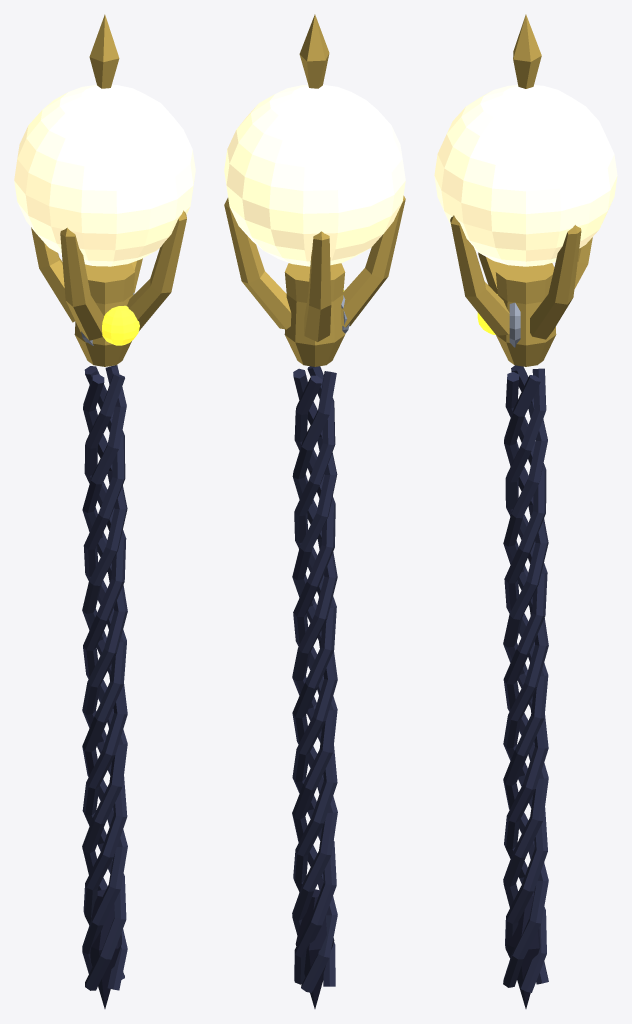
Rendered from staff_amberpearl.glb.
3 renders of one model, left to right at view 1: azimuth 30°, elevation 25°; view 2: azimuth 150°, elevation 25°; view 3: azimuth 270°, elevation 25°, orthographic.
Parts seen in each view (by area): view 1: Ap_Pearl, Ap_Strand2, Ap_Strand3, Ap_Strand1, Ap_Strand0, Ap_Neck, Ap_Claw2, Ap_Claw3, Ap_Top, Ap_Claw1, Ap_Gem, Ap_Tip; view 2: Ap_Pearl, Ap_Strand1, Ap_Strand0, Ap_Strand2, Ap_Strand3, Ap_Neck, Ap_Claw0, Ap_Claw2, Ap_Claw1, Ap_Top, Ap_Tip; view 3: Ap_Pearl, Ap_Strand3, Ap_Strand0, Ap_Strand1, Ap_Strand2, Ap_Neck, Ap_Claw3, Ap_Claw0, Ap_Top, Ap_Tip, Ap_Collar.
Part boxes in pixels (x1,y1,x2,y2): Ap_Pearl: (14,84,195,266); Ap_Strand2: (82,374,127,990); Ap_Strand3: (82,373,127,990); Ap_Strand1: (82,366,127,973); Ap_Strand0: (82,365,127,979); Ap_Neck: (74,263,135,366); Ap_Claw2: (60,227,103,340); Ap_Claw3: (127,210,186,330); Ap_Top: (89,14,119,88); Ap_Claw1: (31,227,74,322); Ap_Gem: (102,305,139,345); Ap_Tip: (90,889,121,1008); Ap_Pearl: (224,84,405,266); Ap_Strand1: (292,375,337,992); Ap_Strand0: (292,368,337,984); Ap_Strand2: (292,371,337,986); Ap_Strand3: (292,366,337,935); Ap_Neck: (284,263,345,366); Ap_Claw0: (224,198,291,329); Ap_Claw2: (341,195,405,327); Ap_Claw1: (304,231,331,341); Ap_Top: (299,14,329,88); Ap_Tip: (295,889,334,1008); Ap_Pearl: (434,85,617,266); Ap_Strand3: (503,371,548,987); Ap_Strand0: (503,375,548,992); Ap_Strand1: (503,368,548,984); Ap_Strand2: (503,365,548,958); Ap_Neck: (495,263,556,366); Ap_Claw3: (450,215,509,335); Ap_Claw0: (530,225,581,339); Ap_Top: (513,14,541,88); Ap_Tip: (506,891,540,1008); Ap_Collar: (509,302,520,347).
Size of the model in its own units: 0.37 by 2.22 by 0.37.
